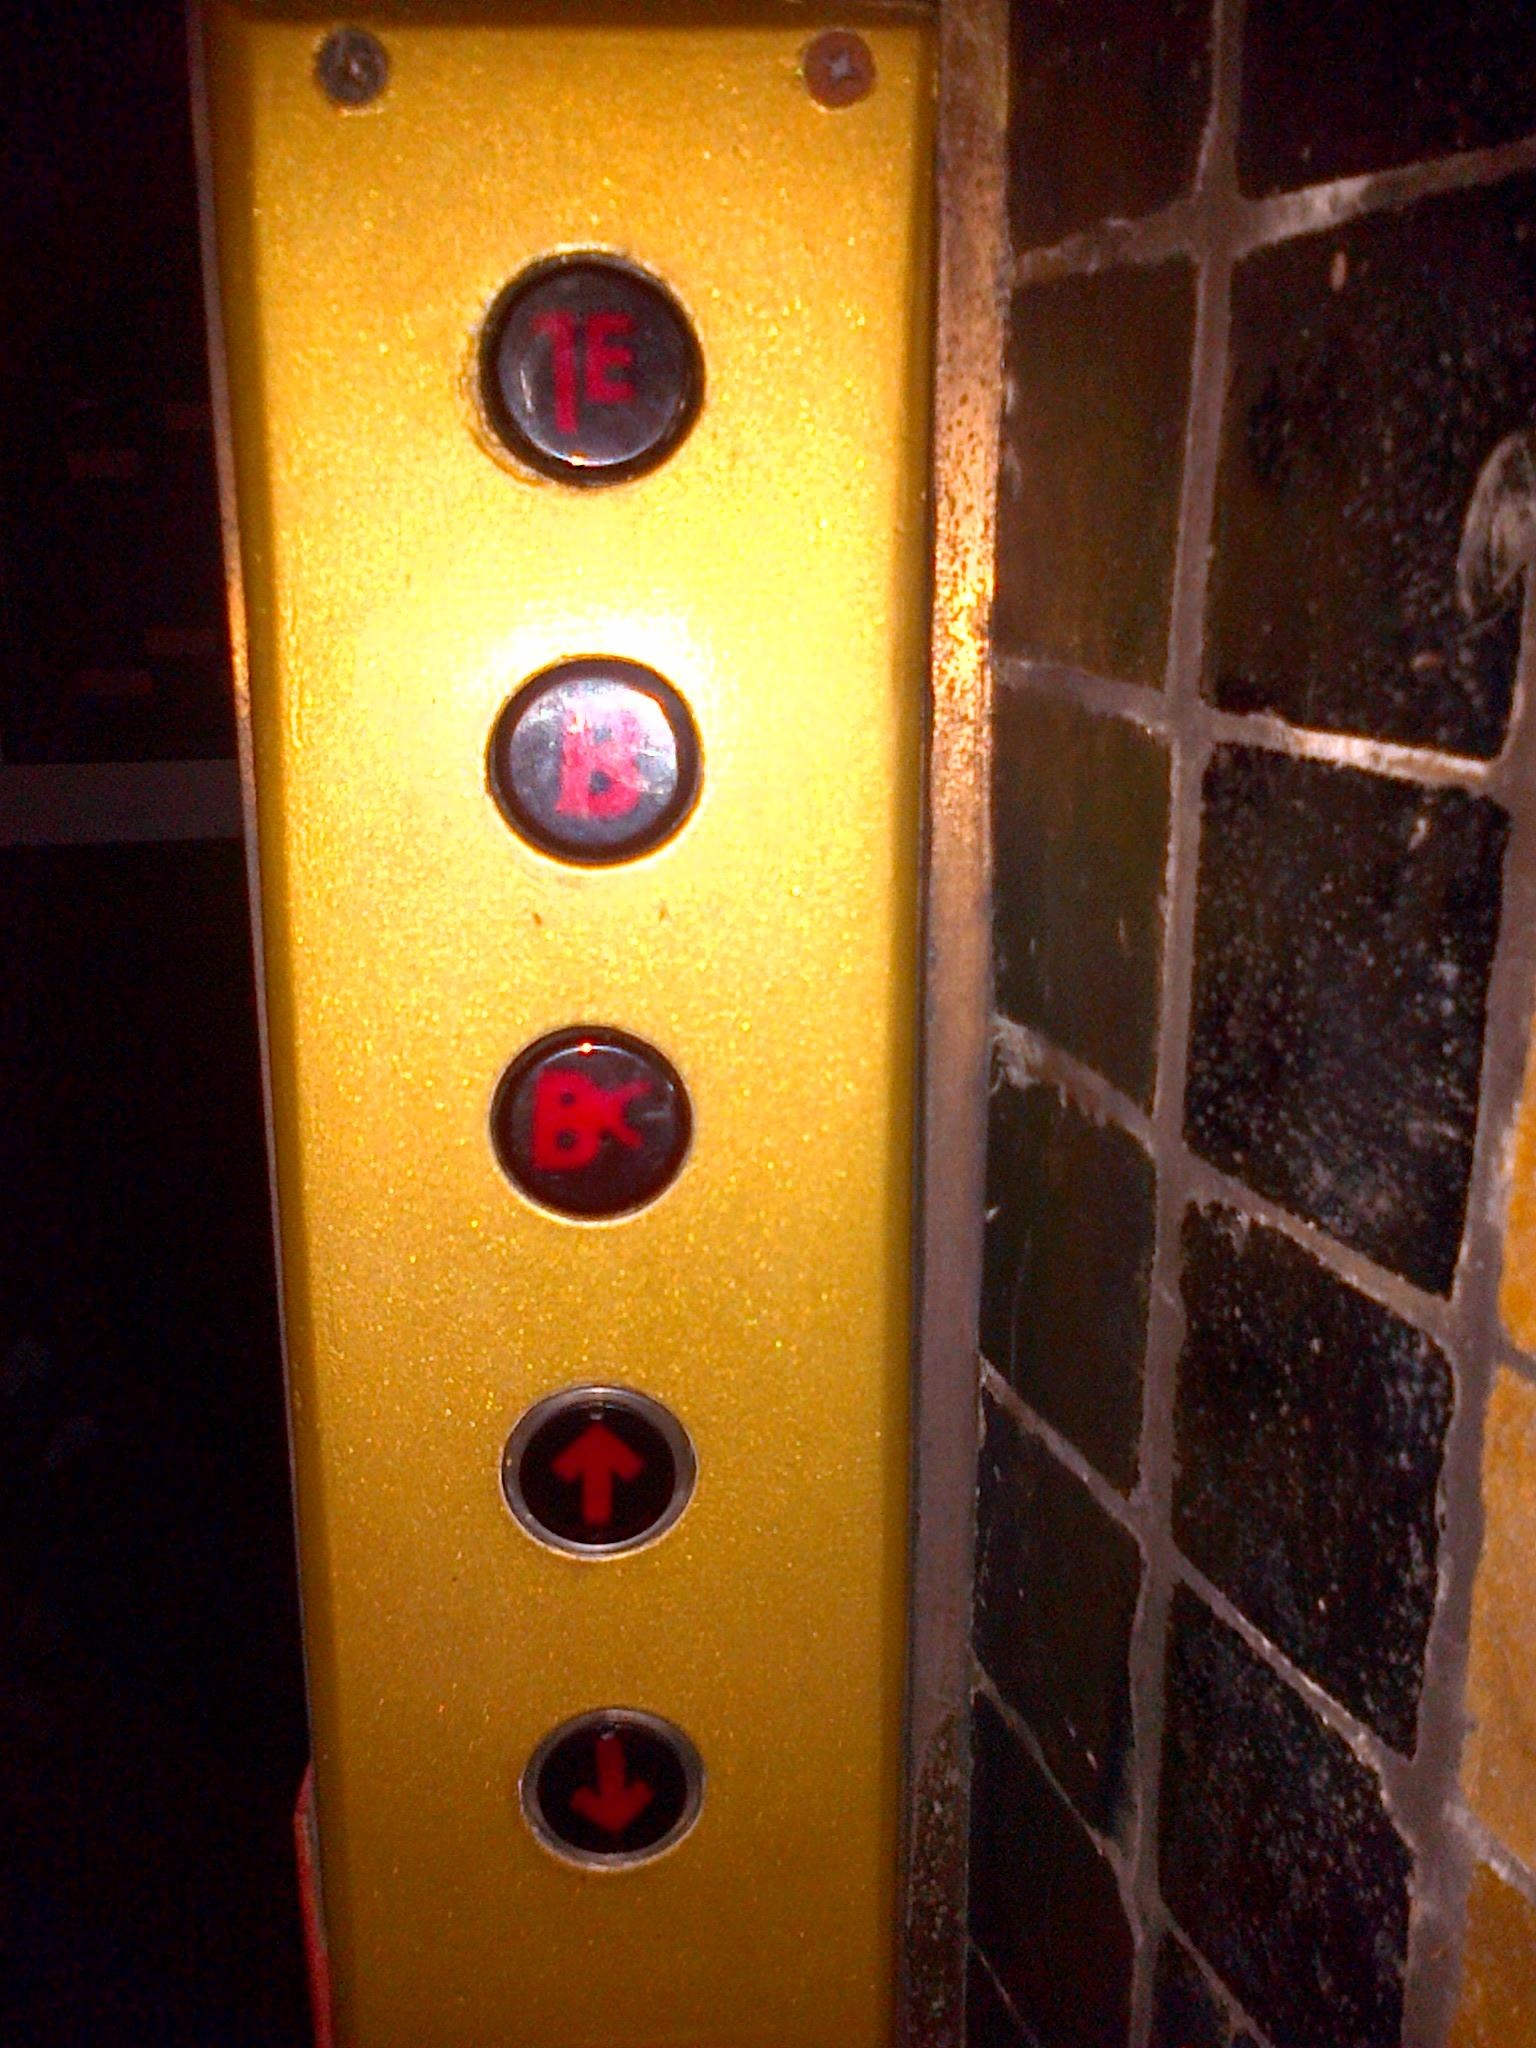1E: (470, 244, 713, 497)
B: (482, 650, 710, 872)
BC: (482, 1026, 710, 1226)
down: (516, 1708, 710, 1866)
up: (495, 1382, 699, 1559)
